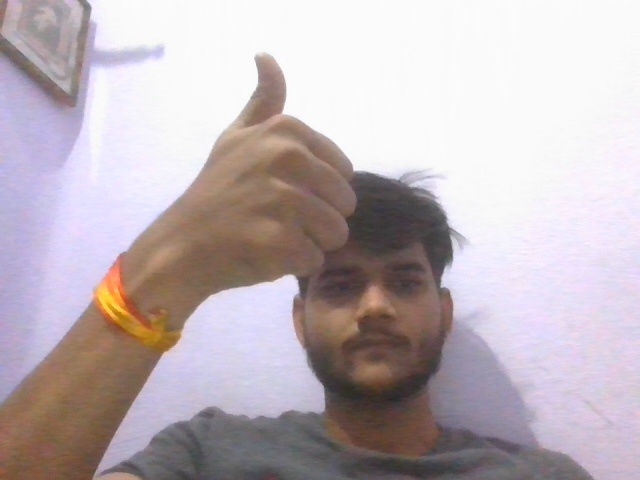thanks: (164, 52, 359, 300)
